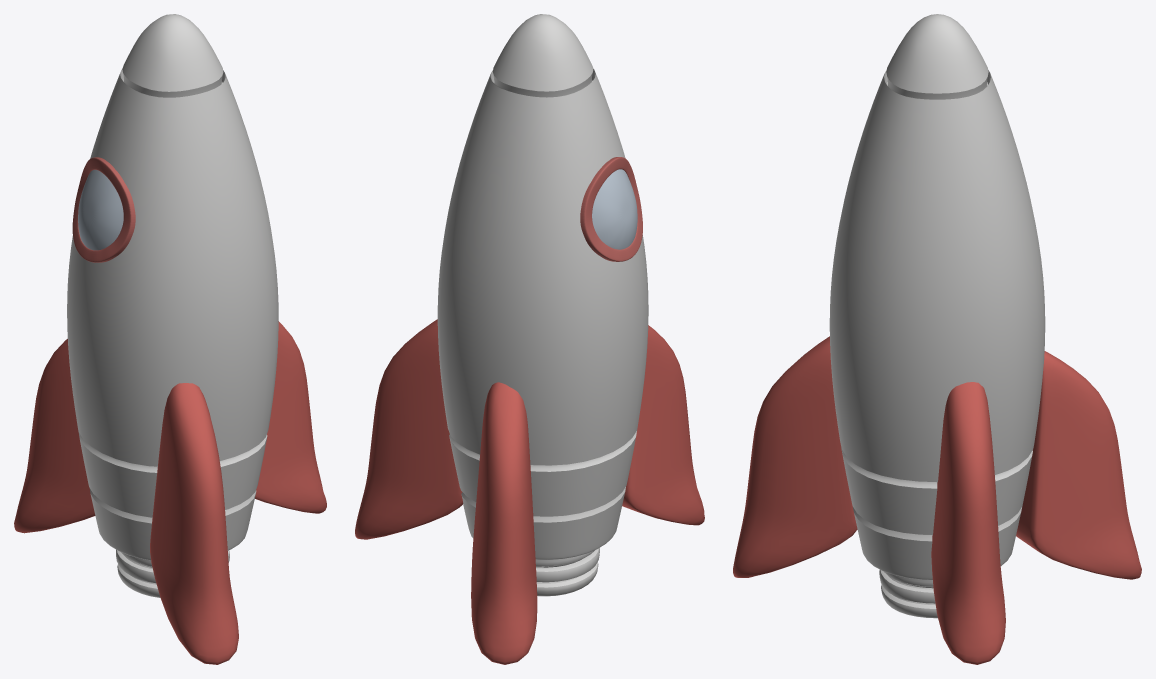
File: spaceship01.fbx
3 renders of one model, left to right at view 1: azimuth 30°, elevation 25°; view 2: azimuth 150°, elevation 25°; view 3: azimuth 270°, elevation 25°, orthographic. The views are drawn at different scales.
Visible parts, largest first — view 1: Cube, Cube.002, Cube.001, Cube.003, cam, Circle; view 2: Cube, Cube.001, Cube.003, Cube.002, cam, Circle; view 3: Cube, Cube.002, Cube.001, Cube.003.
Part boxes in pixels (x1,y1,x2,y2): Cube: (67, 14, 278, 597); Cube.002: (150, 383, 238, 664); Cube.001: (14, 339, 95, 533); Cube.003: (255, 321, 326, 513); cam: (78, 169, 123, 250); Circle: (72, 157, 135, 262); Cube: (437, 14, 648, 596); Cube.001: (471, 382, 537, 664); Cube.003: (355, 319, 463, 539); Cube.002: (622, 325, 704, 525); cam: (592, 169, 637, 249); Circle: (580, 157, 642, 261); Cube: (829, 14, 1045, 618); Cube.002: (733, 336, 857, 577); Cube.001: (1016, 351, 1141, 579); Cube.003: (931, 382, 1005, 664).
Bounding box in the file's own units: 203 × 430 × 271.
